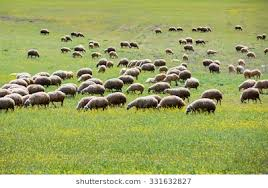sheep: (185, 99, 216, 116), (126, 97, 157, 113), (83, 96, 109, 112), (23, 93, 49, 109), (239, 88, 262, 106), (157, 94, 182, 109), (201, 89, 227, 103), (80, 82, 105, 95), (47, 90, 66, 106), (102, 78, 123, 91), (107, 93, 126, 107), (125, 83, 146, 94), (30, 78, 55, 87), (146, 83, 165, 94), (1, 96, 15, 110), (139, 62, 156, 73), (184, 78, 201, 89), (26, 49, 42, 60), (73, 73, 94, 81), (165, 74, 180, 85), (153, 57, 169, 67), (208, 62, 221, 74), (116, 57, 129, 69), (182, 45, 197, 54), (120, 76, 136, 84), (128, 39, 139, 50), (118, 40, 130, 50), (73, 45, 87, 53), (39, 28, 51, 37), (95, 64, 107, 73), (59, 47, 72, 55), (90, 51, 101, 60), (157, 65, 169, 73), (71, 52, 84, 59), (163, 49, 175, 56), (227, 64, 236, 73), (235, 64, 243, 74), (246, 52, 257, 59), (65, 34, 73, 43), (181, 54, 190, 62), (205, 49, 217, 55), (108, 51, 118, 58), (233, 25, 243, 31), (58, 36, 67, 42), (175, 27, 185, 32), (154, 29, 162, 35), (168, 27, 176, 33), (190, 27, 197, 33), (255, 35, 262, 41), (201, 26, 208, 31)
